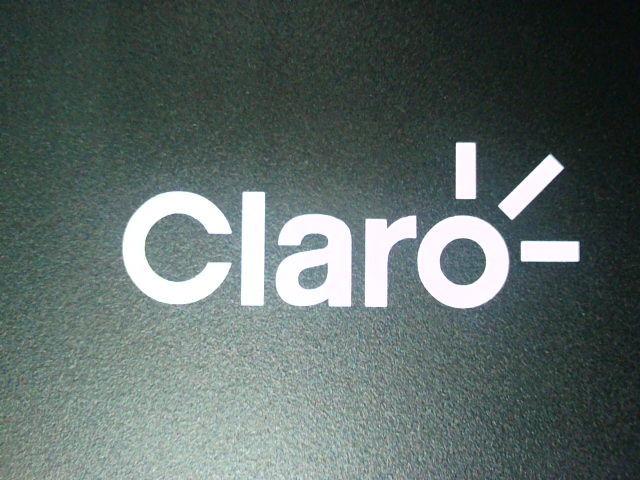BC_Claor: (110, 131, 582, 325)
